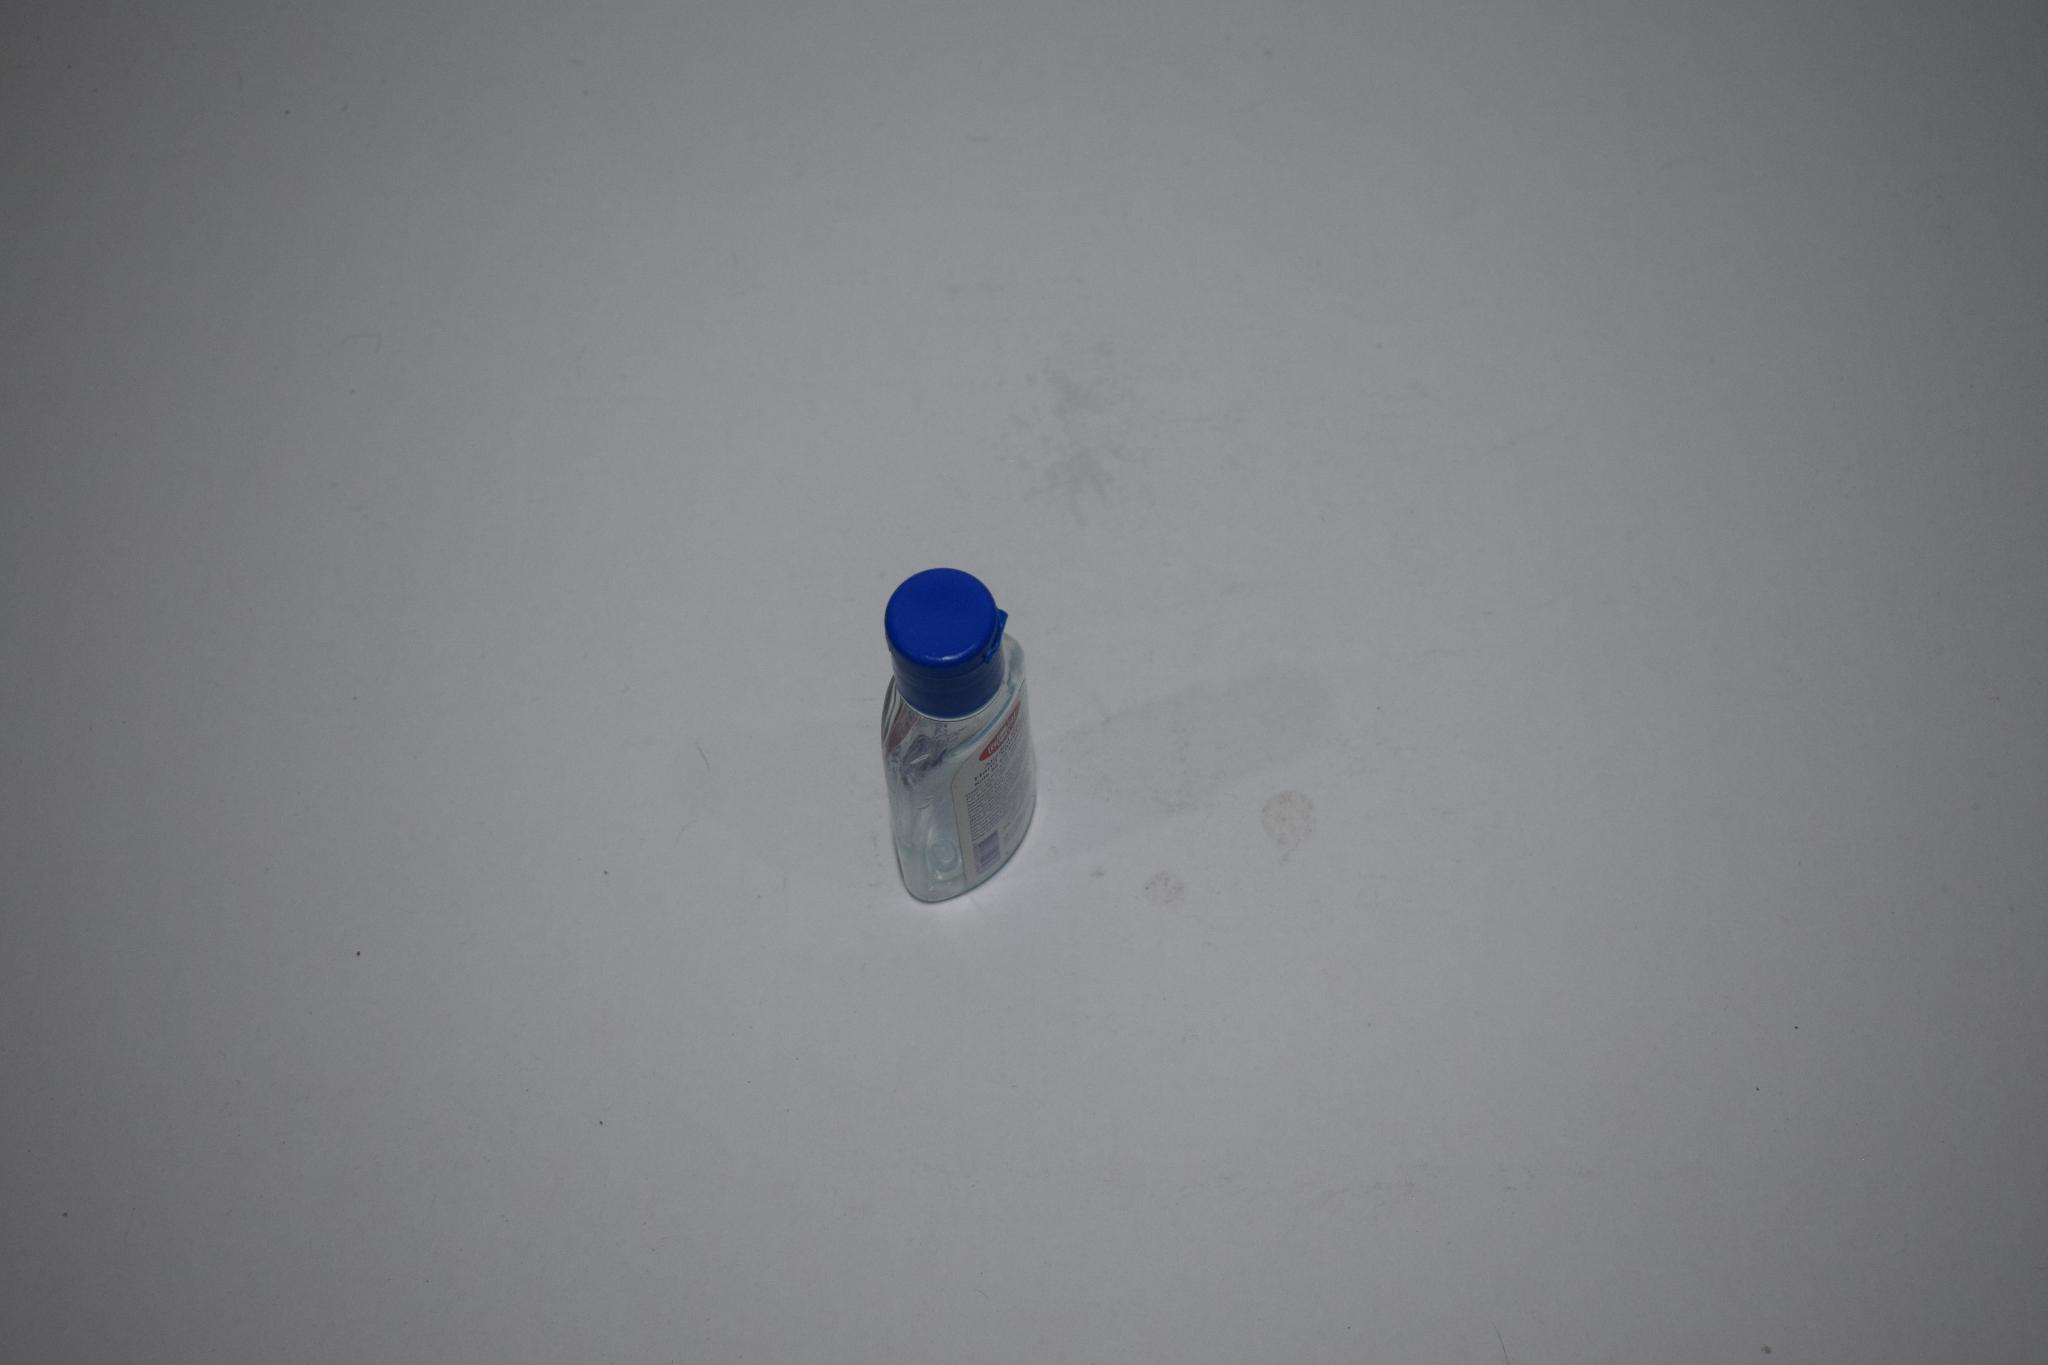bottle: (876, 545, 1042, 914)
